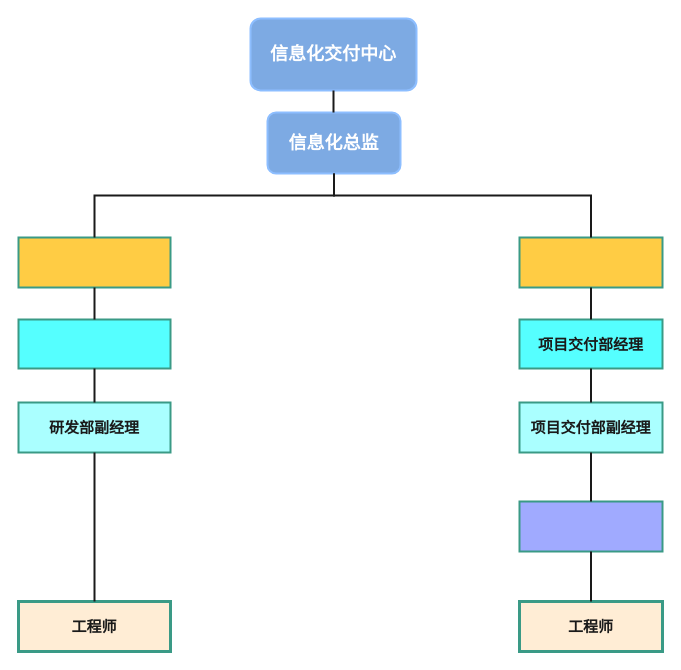
The diagram is 681 pixels wide and 670 high, and some of its shapes have lost their labels. The shapes that lost their labels are listed below. From the top down, each one's centre as x and y in pixels, then its label:
point (94, 262): 研发部
point (590, 262): 项目交付部
point (94, 343): 研发部经理
point (590, 526): 项目经理
